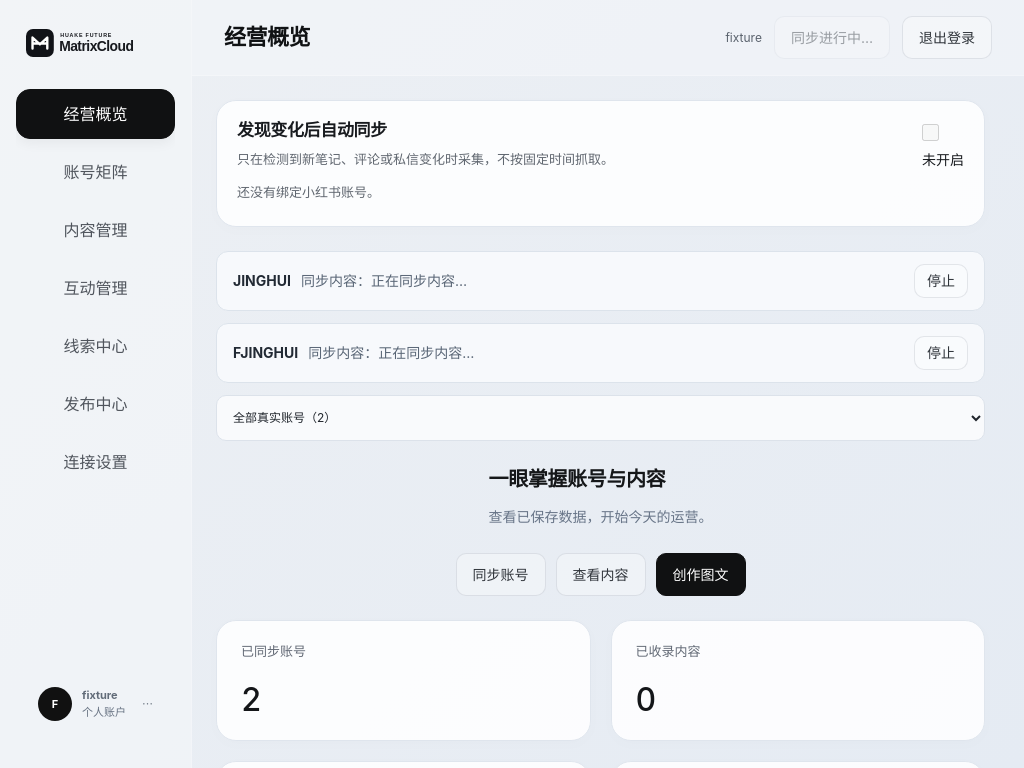
Scenario: aborts superseded polling so a remaining account has only one in-flight state read
The image size is (1024, 768).
Expected: the text "已同步账号" is shown, [241,643,306,659]
Click the button "账号矩阵" at [96, 172], box [16,147,175,197]
(page scrolled)
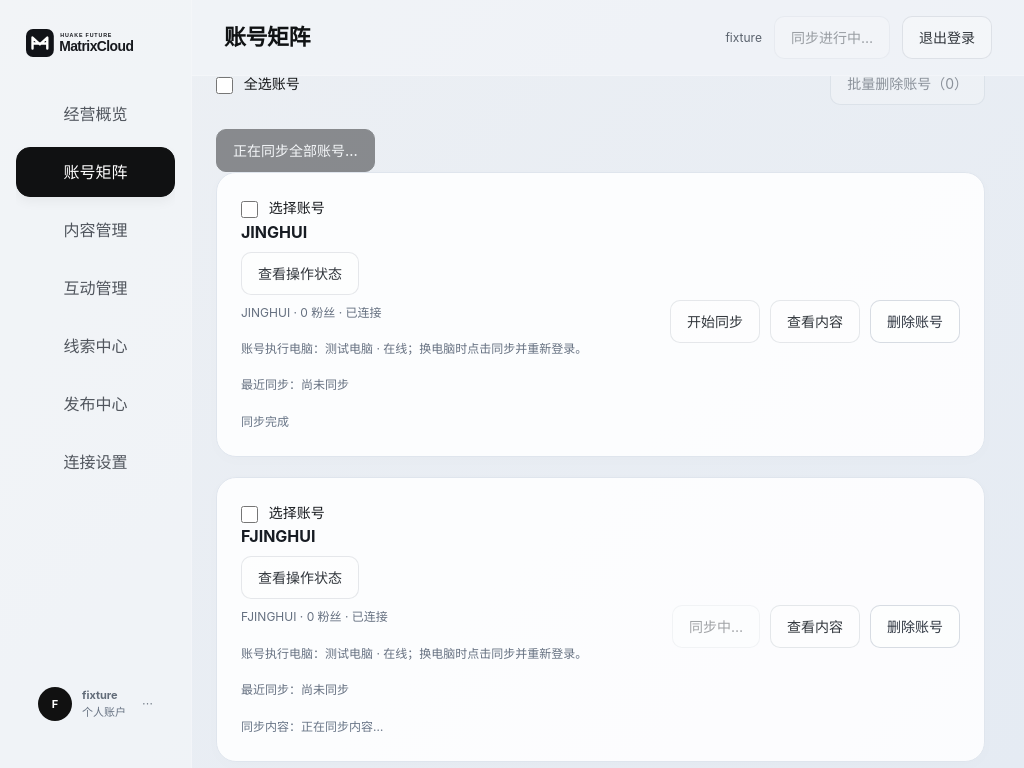
Expected: the heading "JINGHUI" is shown, [241,222,307,242]
Expected: the message "同步完成" is shown, [241,414,289,429]
